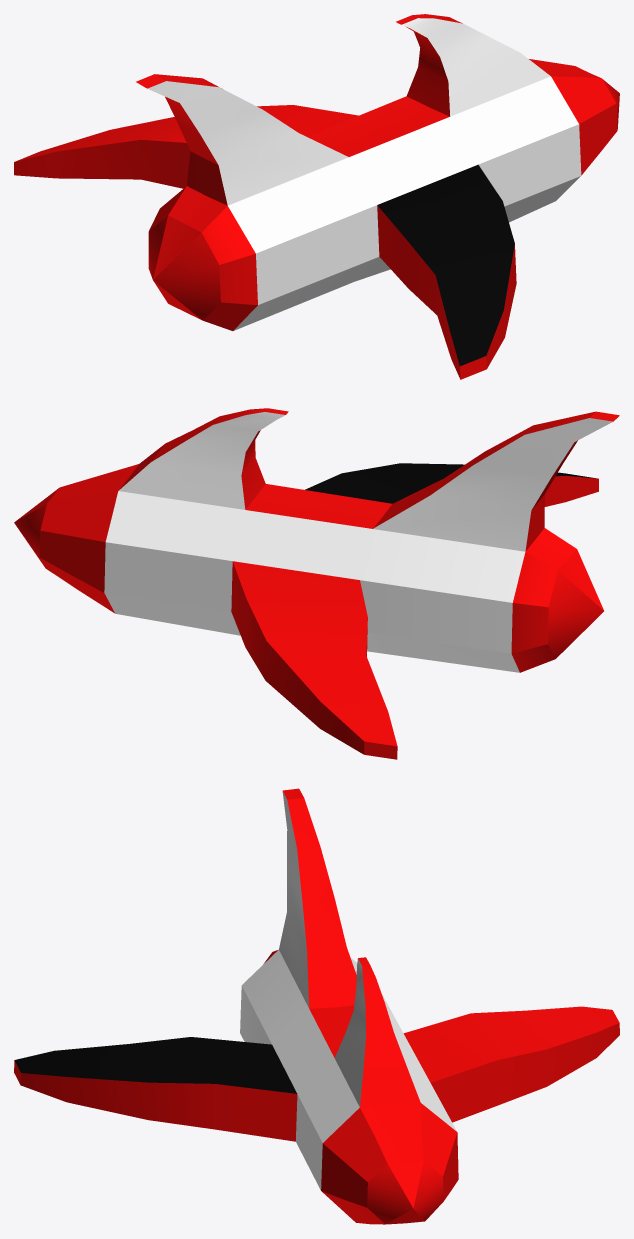
The model's file is airEnemy2R.fbx.
3 views of the same model, one above another, from view 1: azimuth 30°, elevation 25°; view 2: azimuth 150°, elevation 25°; view 3: azimuth 270°, elevation 25° (orthographic). The views are drawn at different scales.
Visible parts, largest first — view 1: pPlane10; view 2: pPlane10; view 3: pPlane10.
Boxes of the visible parts, x1=… form: pPlane10: x1=14, y1=14, x2=619, y2=379; pPlane10: x1=14, y1=408, x2=619, y2=759; pPlane10: x1=14, y1=788, x2=619, y2=1224.
Bounding box in the file's own units: 10.84 × 5.01 × 11.32.
Materials: 1 (1 with a texture image).
